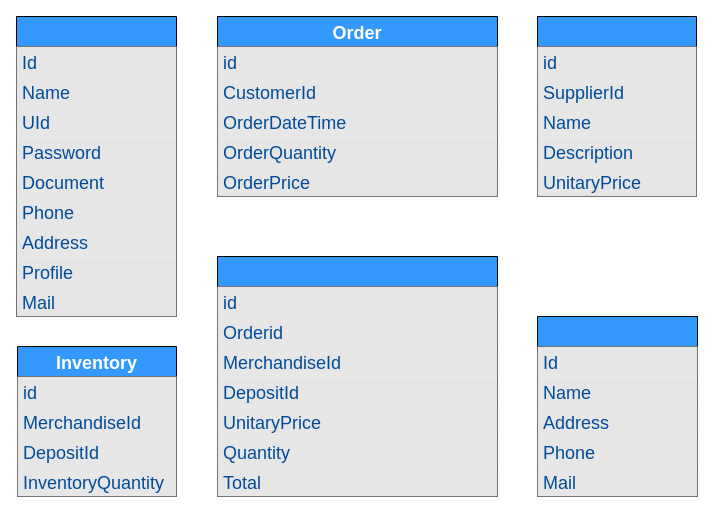
Image size: 714x513. Some labels were removed from this diagram. The box of each missing label's shape, as (x1, y1, x2, y2) in pixels:
Deposit: (536, 316, 698, 496)
Merchandise: (536, 16, 696, 196)
Order Item: (216, 256, 498, 496)
User: (16, 16, 176, 316)
